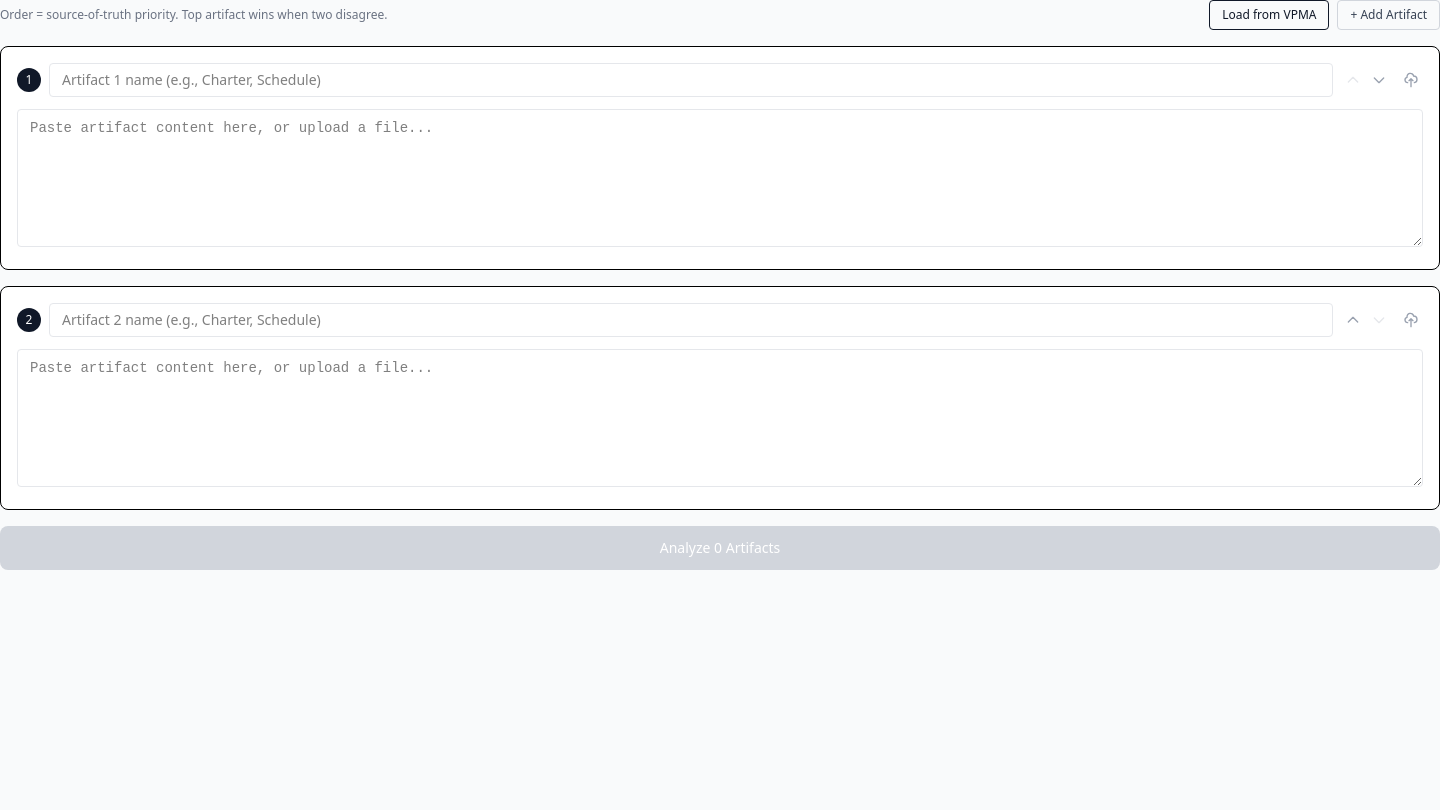
ArtifactUploader › Load from VPMA › shows source badges (Artifact vs LPD)
Click the button "Load from VPMA".
click(1269, 15)  # box 1209,0 -> 1330,30
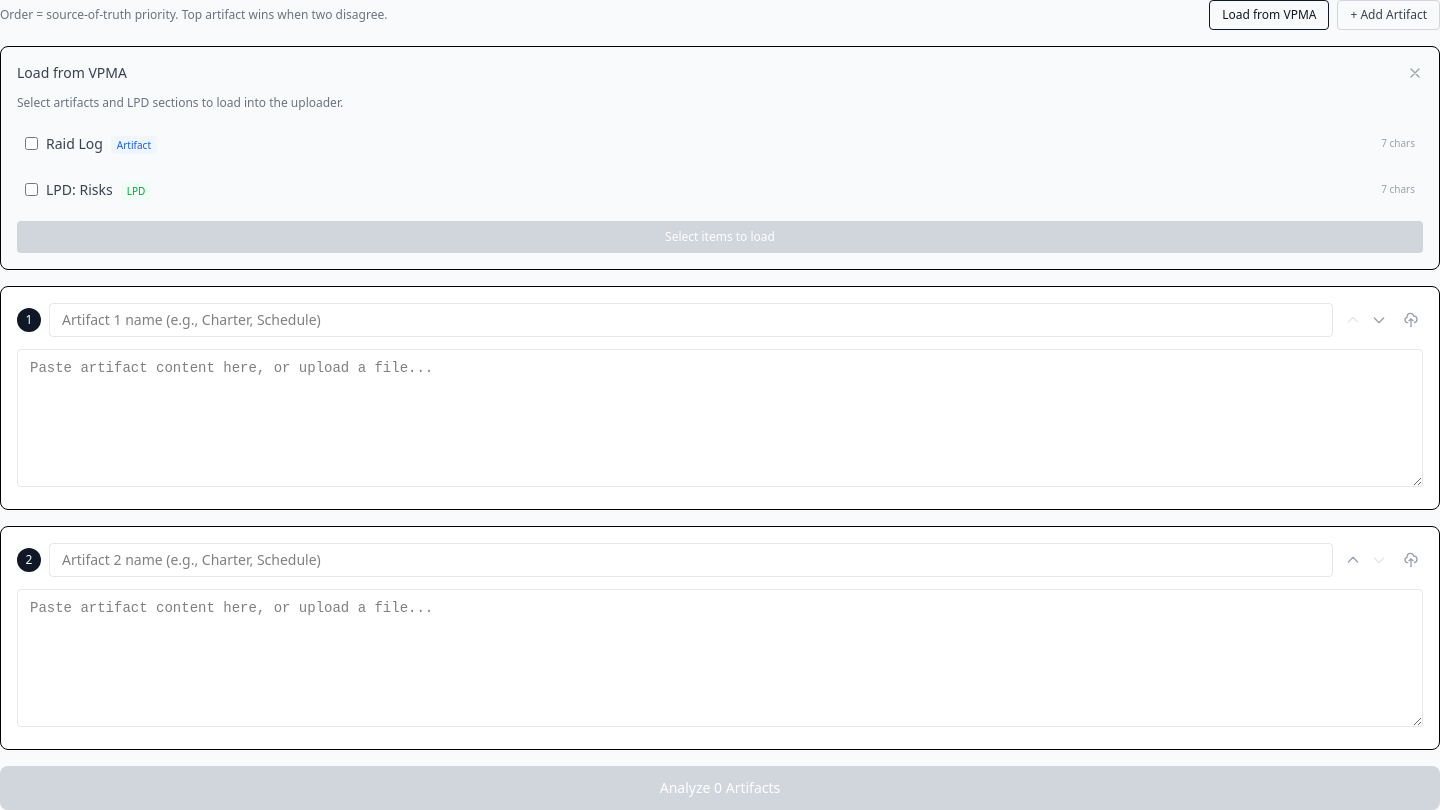
expect the text "Artifact" is shown: met, box 111,136 -> 157,154
expect the text "LPD" is shown: met, box 121,182 -> 151,200
